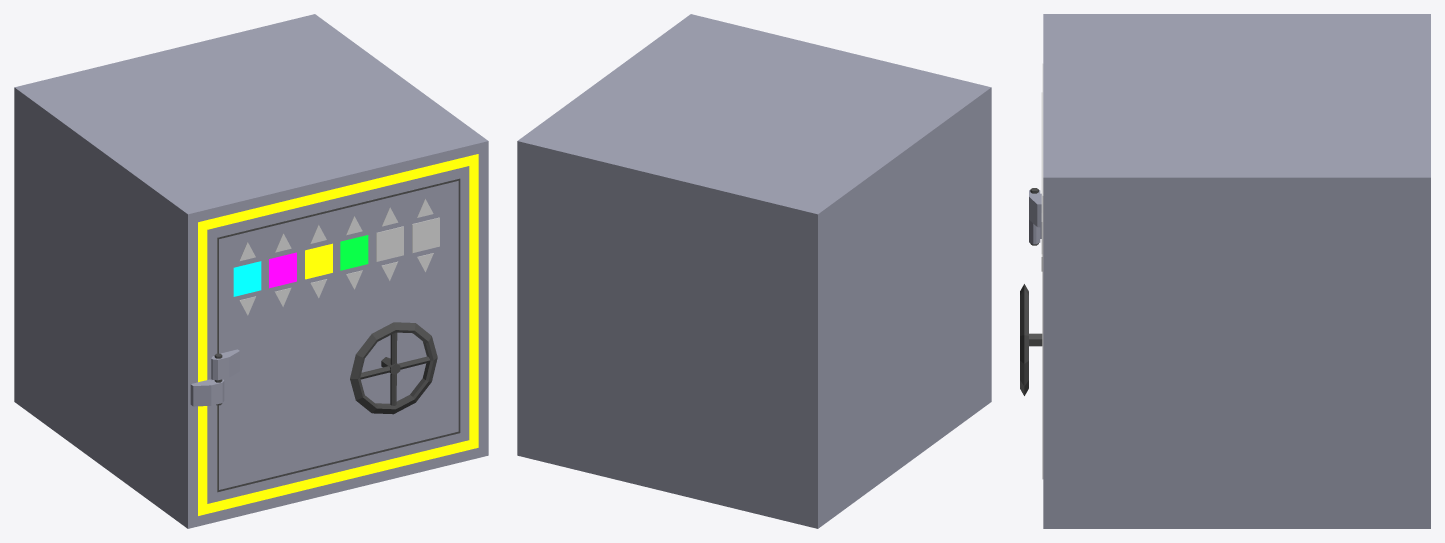
Rendered from Cofre.fbx.
The picture shows the model from 3 angles, left to right: view 1: azimuth 30°, elevation 25°; view 2: azimuth 150°, elevation 25°; view 3: azimuth 270°, elevation 25°; orthographic projection. The views are drawn at different scales.
Parts seen in each view (by area): view 1: Cube, Cube.005, Cube.001, Cube.002; view 2: Cube; view 3: Cube, Cube.005, Cube.001.
Boxes of the visible parts, box(x1,y1,x2,y2) form: Cube: box(14, 14, 488, 528); Cube.005: box(211, 178, 460, 492); Cube.001: box(350, 322, 437, 414); Cube.002: box(190, 353, 224, 406); Cube: box(517, 14, 991, 528); Cube: box(1043, 14, 1430, 528); Cube.005: box(1029, 63, 1043, 479); Cube.001: box(1020, 284, 1042, 395).
Bounding box in the file's own units: 200 × 200 × 212.
